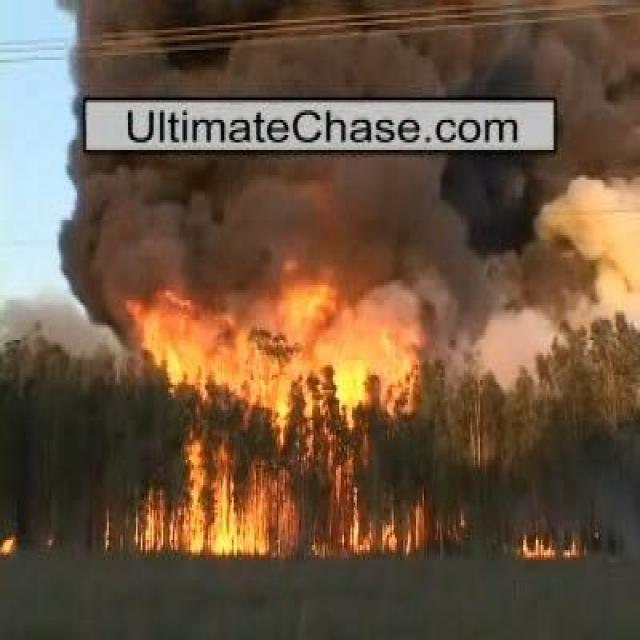fire: (186, 446, 287, 557)
smoke: (71, 158, 590, 296), (72, 17, 584, 93)
